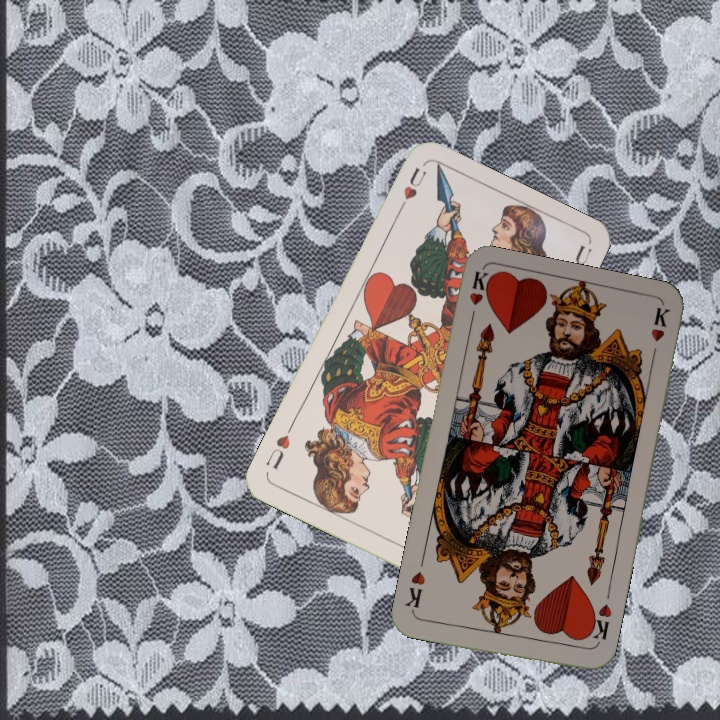HK: (465, 268, 495, 328), (583, 600, 615, 649)
HU: (393, 163, 430, 217)
